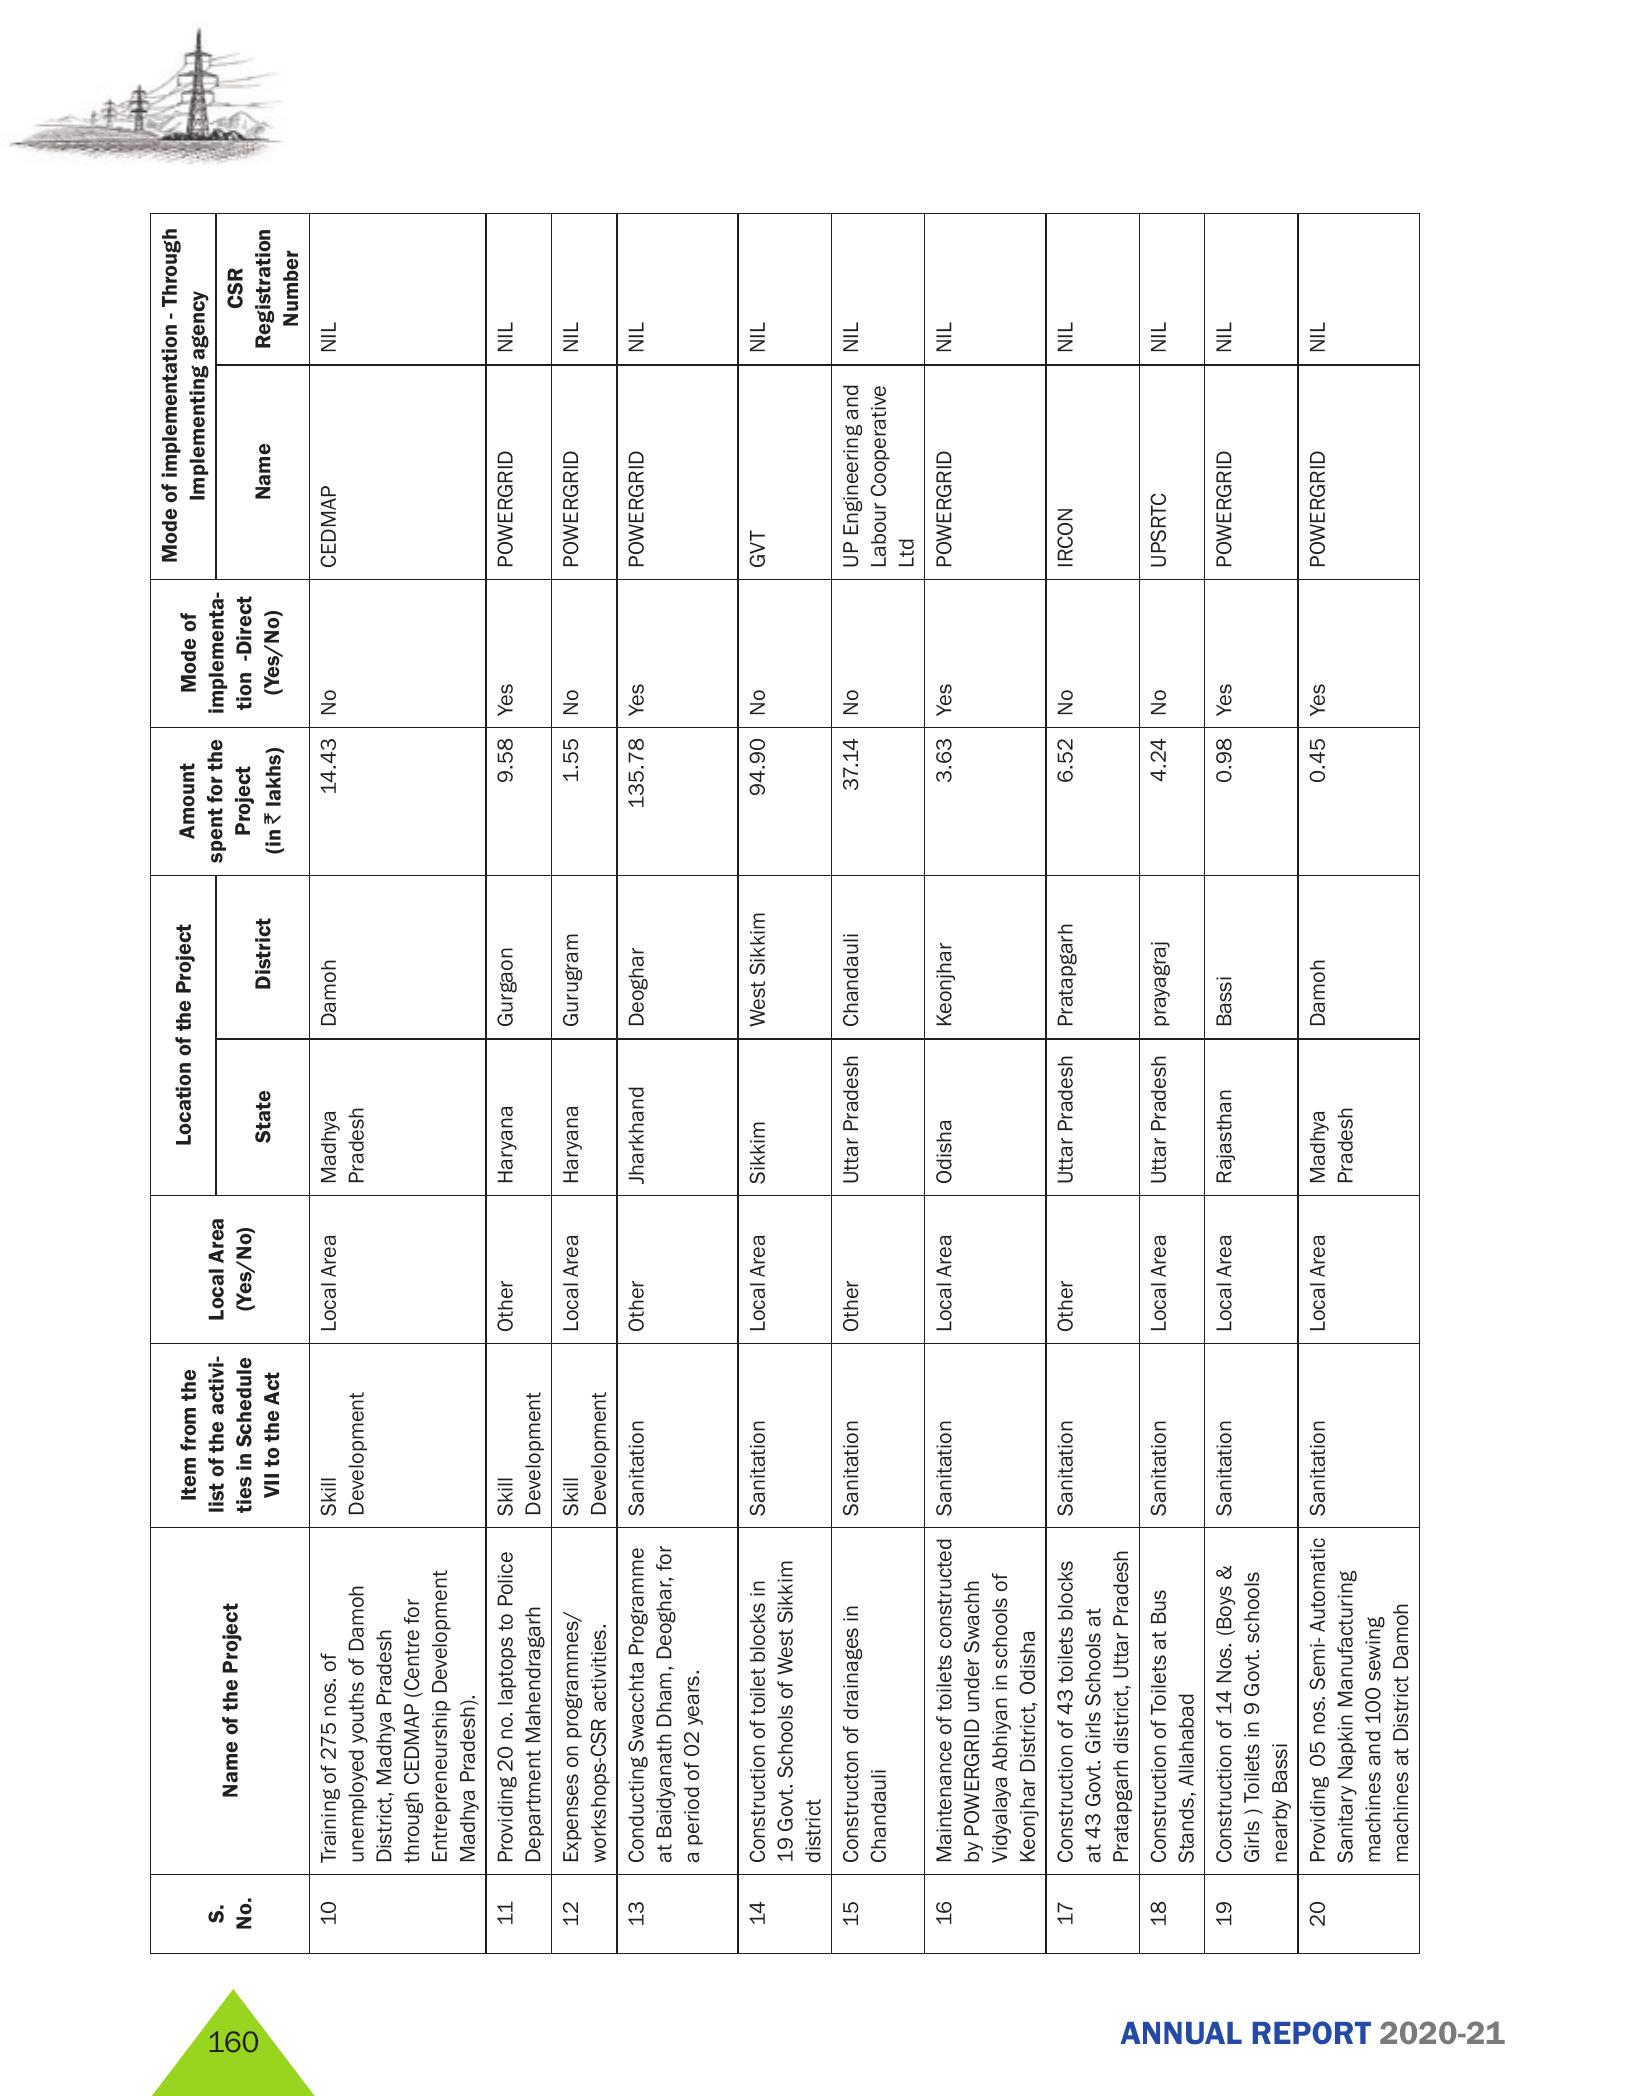Footer: (0, 1965, 1650, 2096)
Header: (0, 0, 1650, 180)
Table: (94, 208, 1495, 1994)
